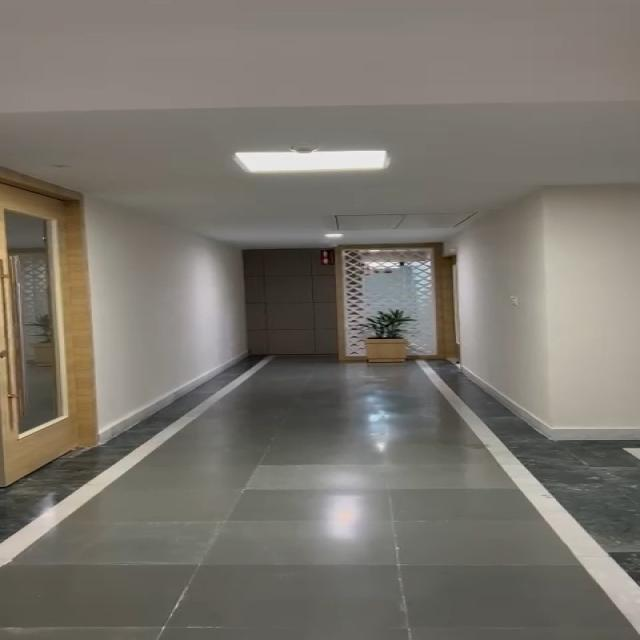door: (0, 157, 108, 480), (243, 252, 456, 370)
floor: (148, 394, 482, 640)
furniture: (352, 299, 423, 375)
wall: (464, 35, 640, 464)
